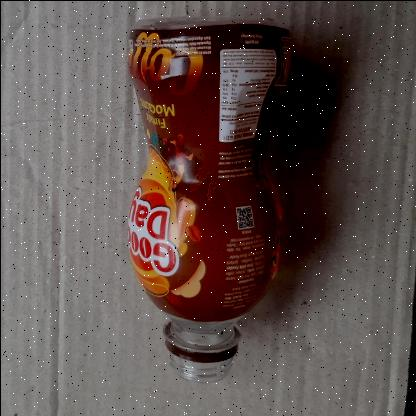Plastic Bottle: (122, 23, 292, 383)
